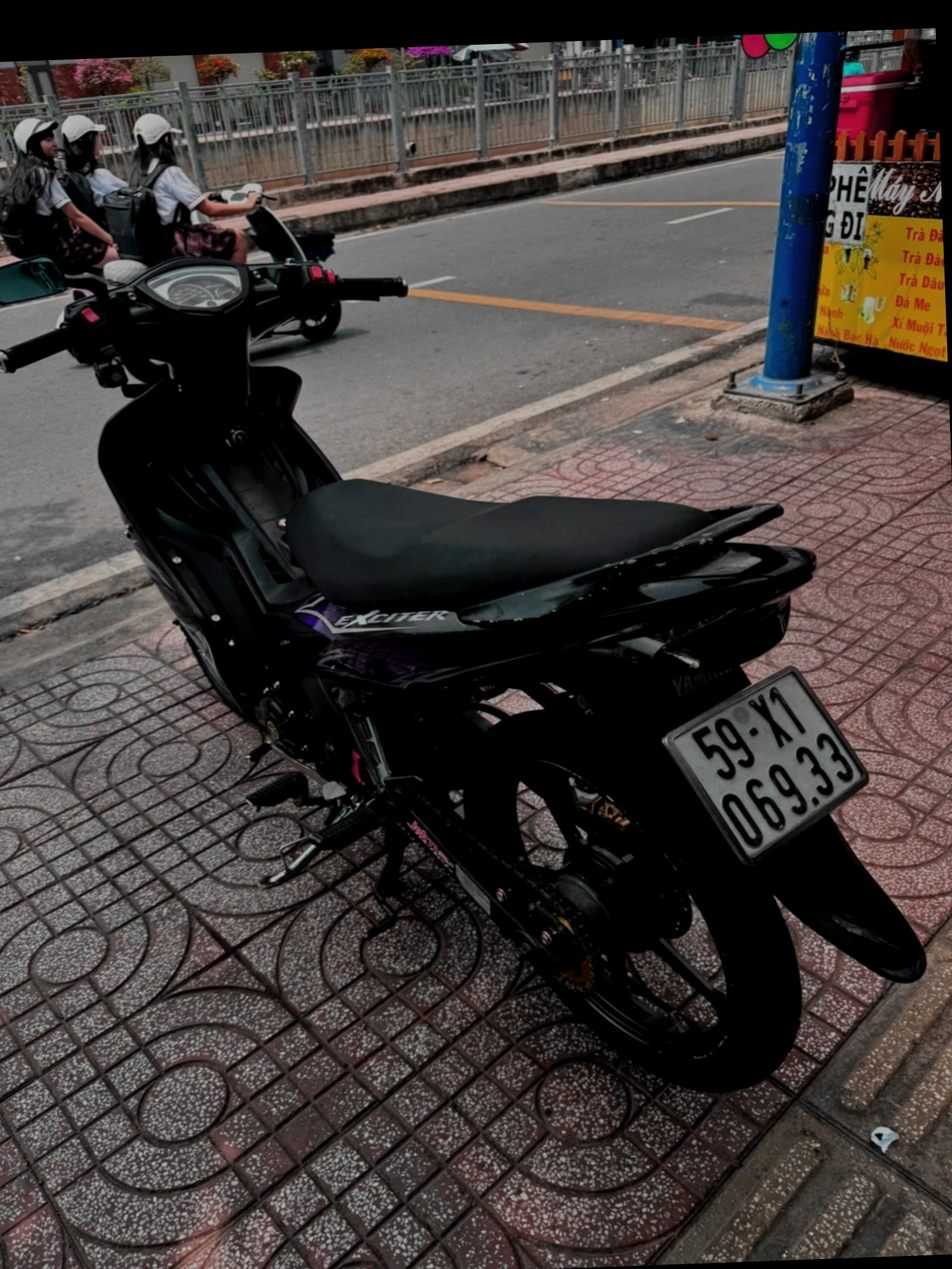Bien-so: (637, 647, 834, 854)
